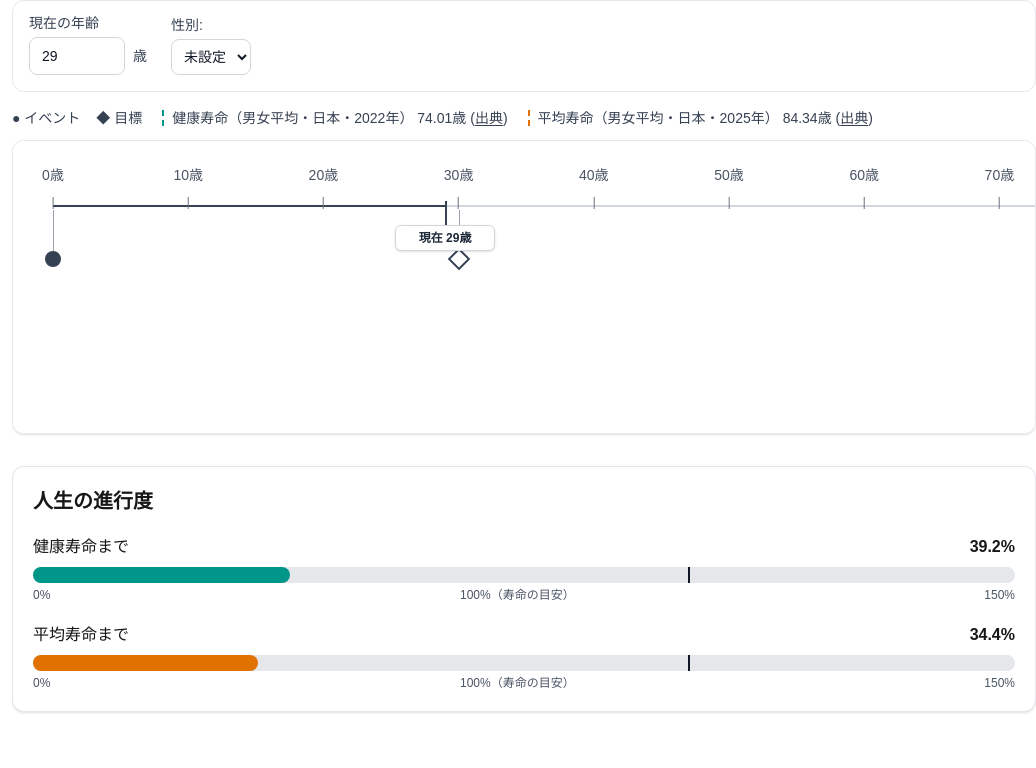
Timeline › マーカーにカーソルを合わせるとカードを浮かび上がらせる
This screenshot has width=1036, height=768.
Hover over the button named "資格取得": (459, 259) [443, 243, 475, 275]
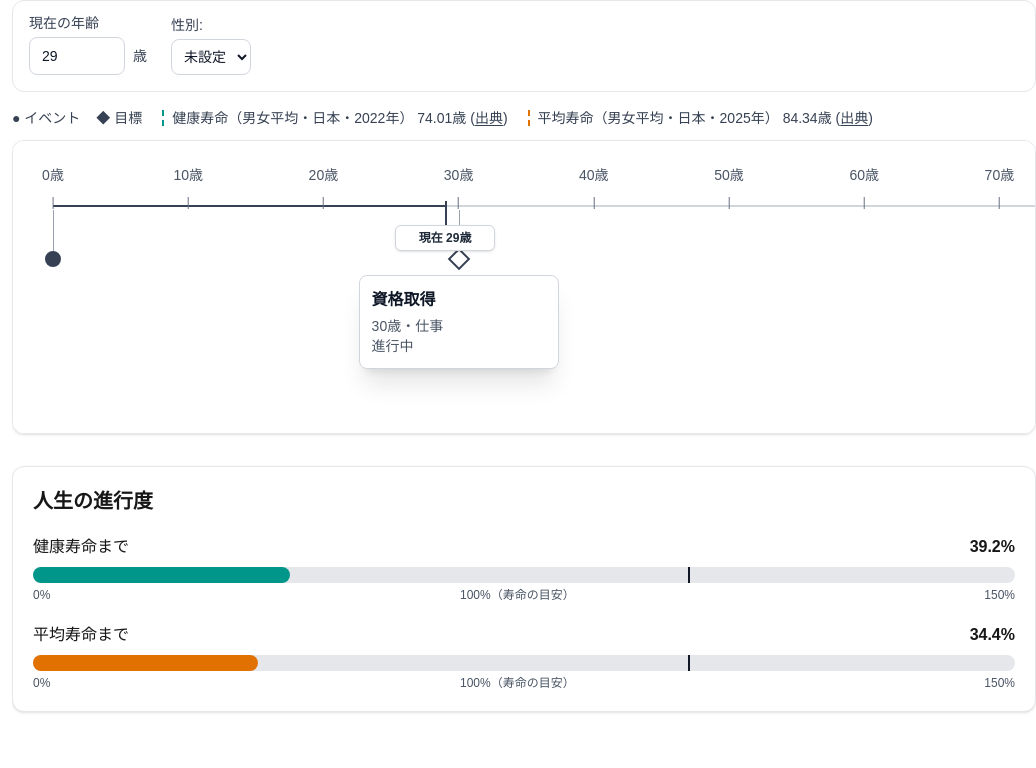
Check: the tooltip shows "資格取得", box [372, 291, 436, 308]
Check: the tooltip shows "30歳・仕事", box [359, 275, 559, 369]
Check: the tooltip shows "進行中", box [372, 338, 414, 354]
